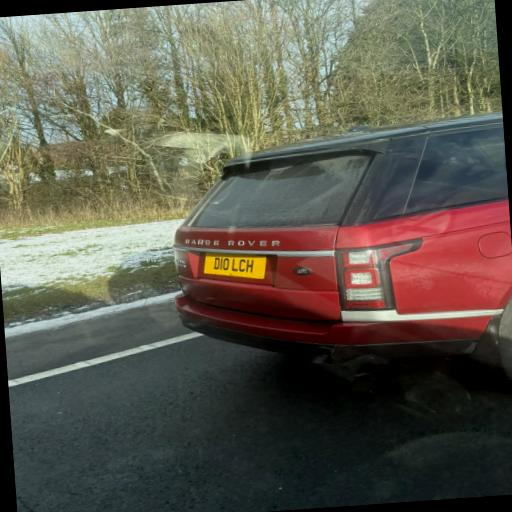numberplates: (204, 253, 266, 279)
